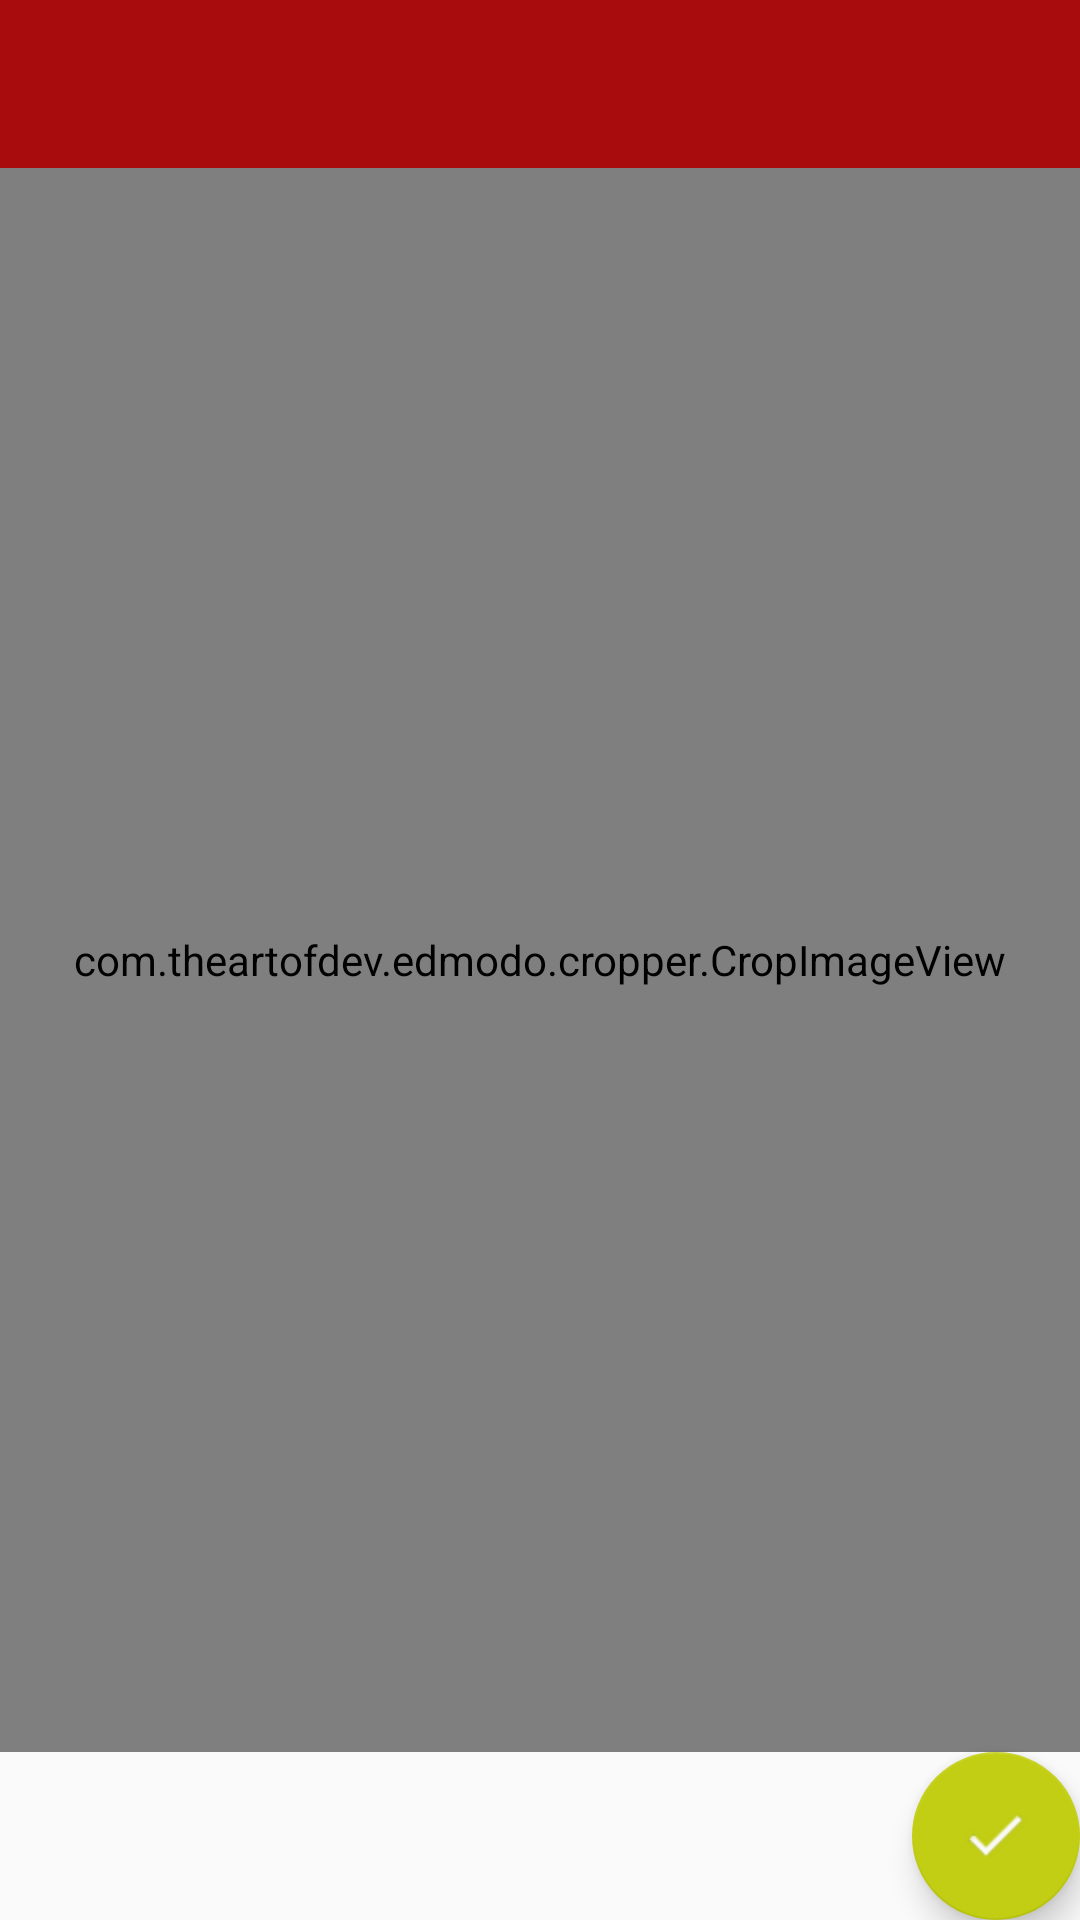

Point at icon controls on the screen. Image size 1080w x 1920h, points as (x,y).
check: (996,1836)
